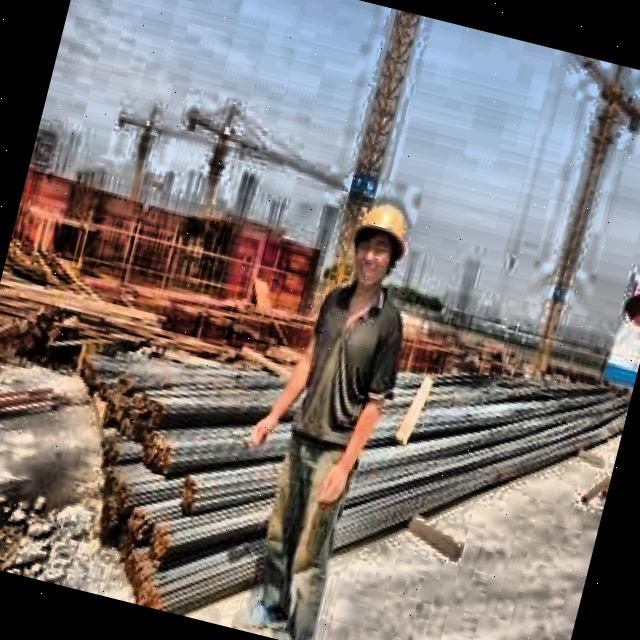helmet: (326, 180, 429, 310)
